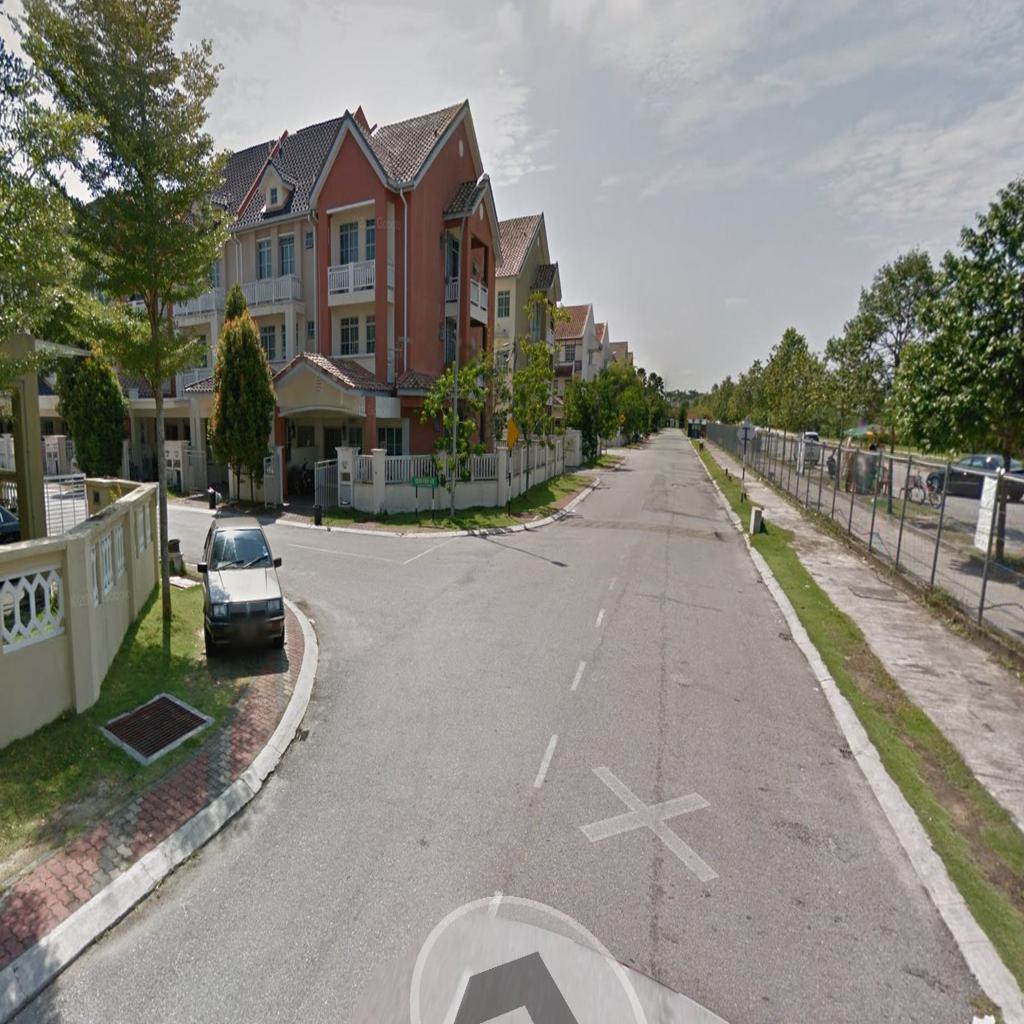Junction: (265, 492, 490, 695)
